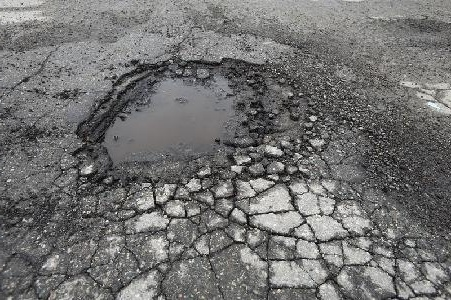pothole: (70, 51, 319, 192)
